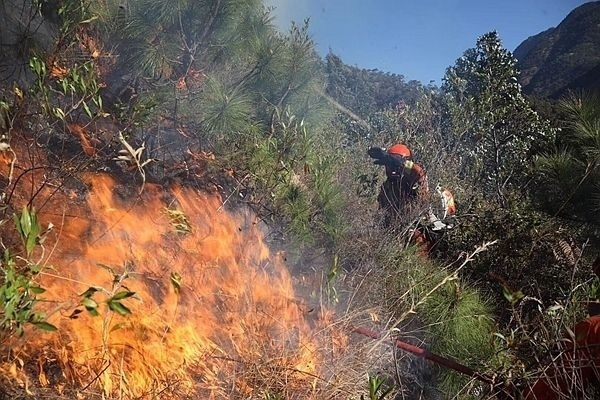fire: (15, 164, 354, 392)
